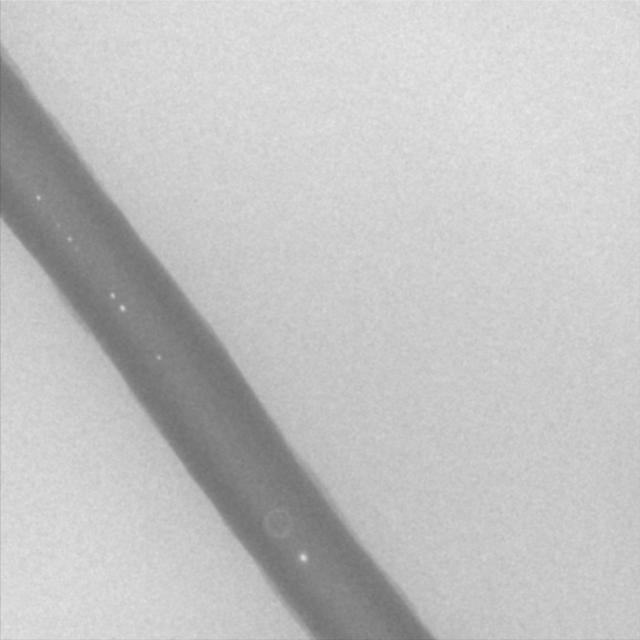air hole: (296, 550, 308, 564), (119, 303, 126, 314), (66, 234, 73, 244), (155, 353, 162, 361), (109, 290, 115, 298), (35, 194, 41, 201)
hollow bead: (261, 506, 295, 540)
